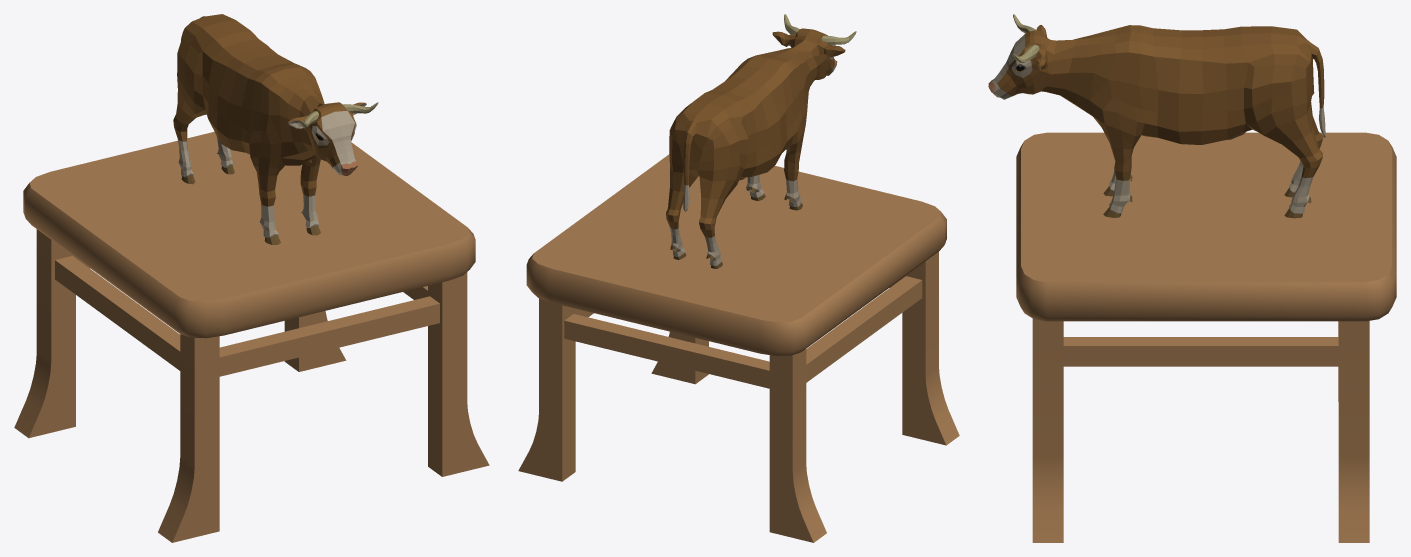
File: Cow Table.fbx
The picture shows the model from 3 angles, left to right: view 1: azimuth 30°, elevation 25°; view 2: azimuth 150°, elevation 25°; view 3: azimuth 270°, elevation 25°; orthographic projection. The views are drawn at different scales.
Parts seen in each view (by area): view 1: Cow1; view 2: Cow1; view 3: Cow1.
Boxes of the visible parts, x1,y1,x2,y2 form: Cow1: [14, 14, 489, 542]; Cow1: [518, 14, 959, 542]; Cow1: [988, 14, 1396, 542].
Bounding box in the file's own units: 11 × 13.26 × 11.45.
8 materials, 1 textured.
